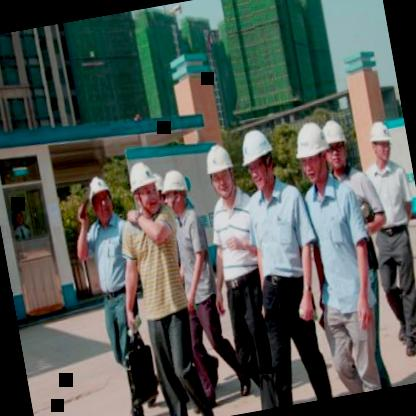helmet: (234, 122, 281, 194), (290, 117, 332, 188), (200, 139, 241, 204), (124, 156, 163, 218), (319, 117, 352, 175), (158, 164, 193, 216), (82, 172, 115, 224), (363, 117, 397, 166)
